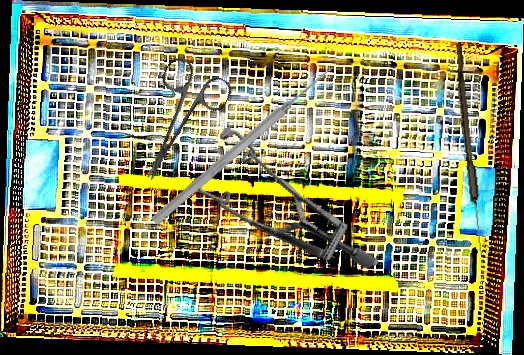Iris Scissors: (116, 53, 236, 194)
Pusher: (149, 63, 336, 228)
Speculum: (169, 92, 381, 324)
Surgical Spoon: (450, 42, 488, 256)
